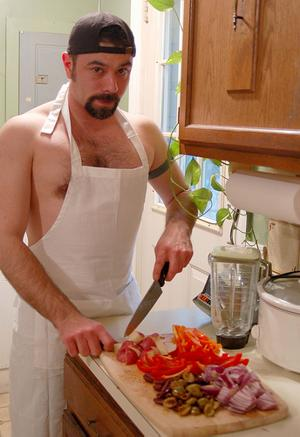person: (1, 10, 198, 437)
